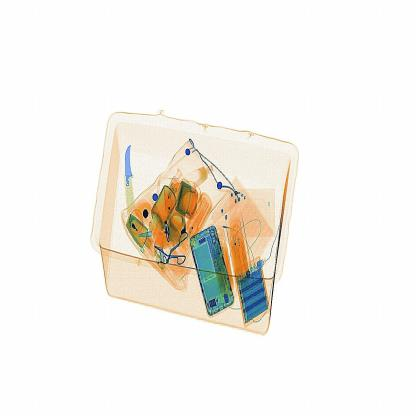wrench: (118, 142, 135, 211)
